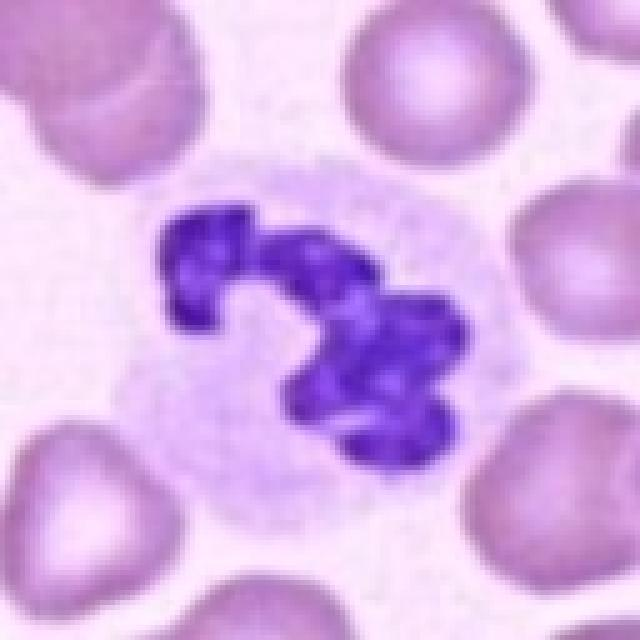neutro: (92, 148, 559, 521)
